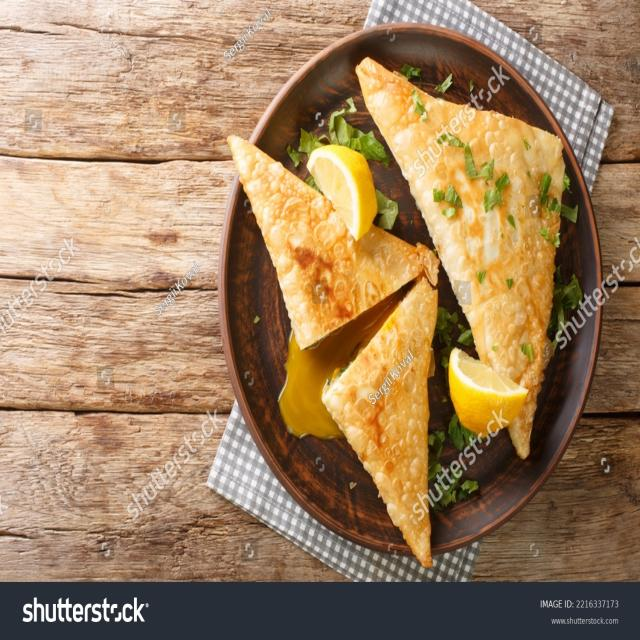brik: (399, 49, 569, 462), (222, 156, 414, 353), (346, 276, 446, 564)
